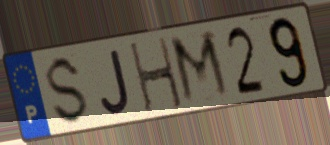2: (225, 24, 268, 98)
9: (266, 15, 312, 90)
H: (126, 35, 186, 116)
J: (97, 46, 133, 117)
M: (167, 28, 235, 109)
S: (44, 53, 92, 128)
